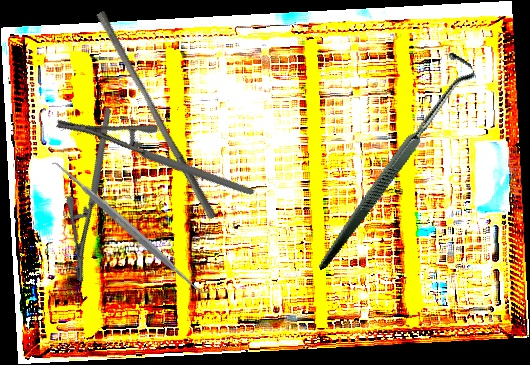Hook Surgical: (260, 47, 523, 271)
Needle Holder: (52, 65, 256, 252), (25, 106, 164, 284)
Pusher: (89, 10, 225, 220)
Spatula Surgical: (47, 152, 214, 305)
